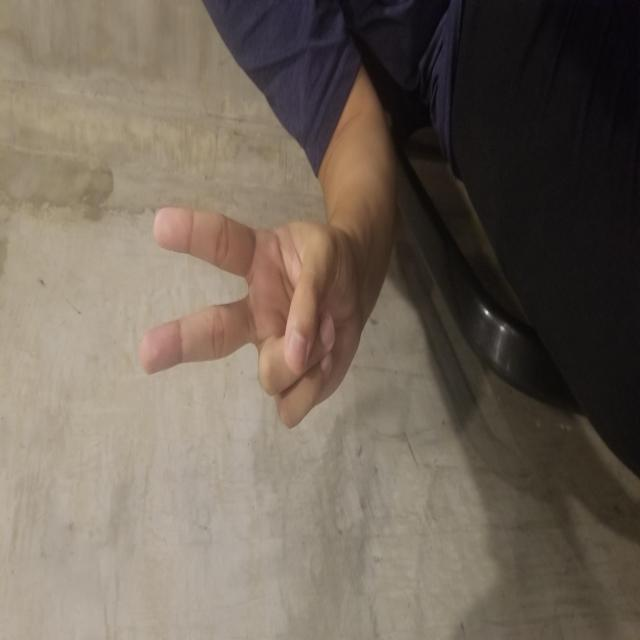V: (208, 141, 440, 364)
